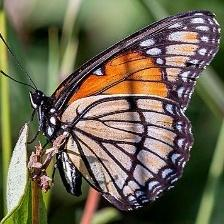butterfly: (30, 11, 221, 211)
